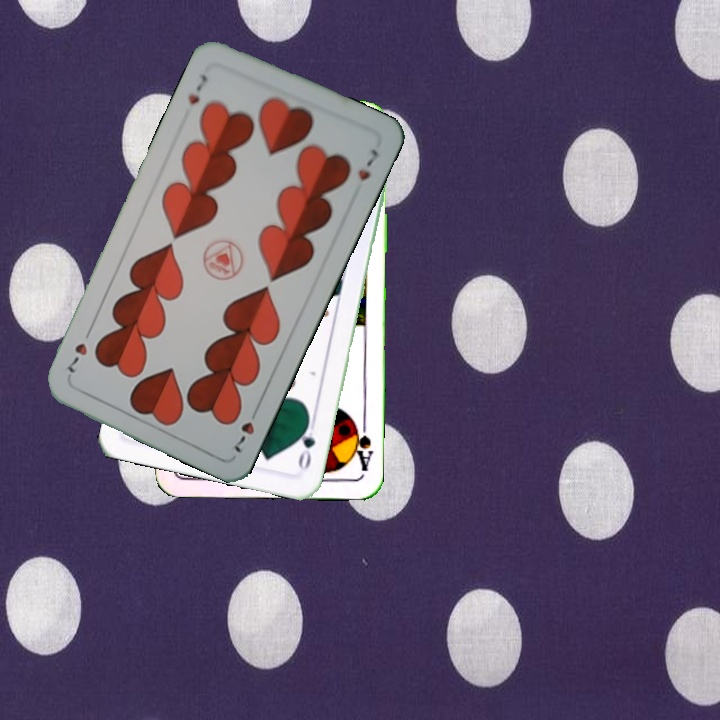GO: (294, 415, 318, 472)
H7: (230, 402, 262, 456), (184, 69, 211, 108)
SA: (348, 415, 375, 474)
